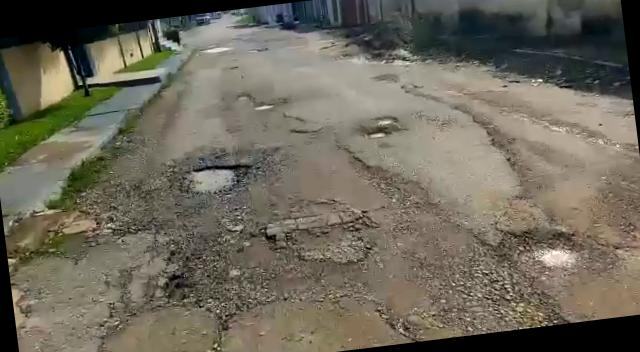pothole: (178, 159, 256, 199), (374, 114, 399, 126), (366, 129, 388, 140), (254, 103, 276, 112)
